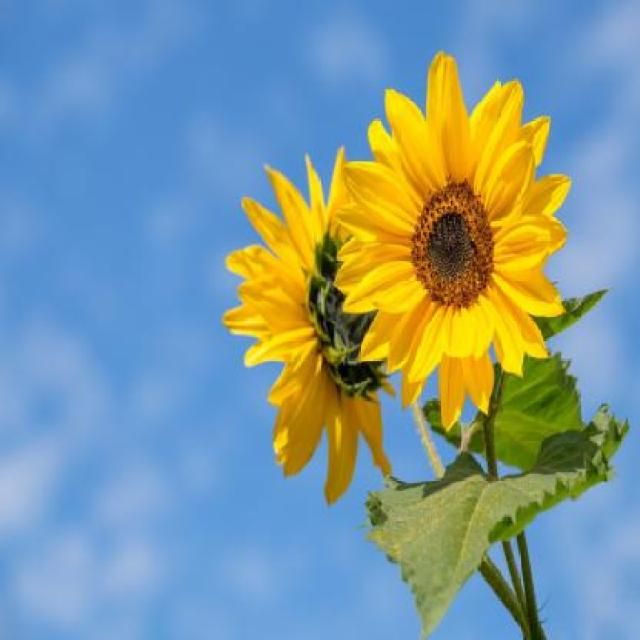sunflower: (322, 47, 582, 418), (222, 142, 402, 510)
